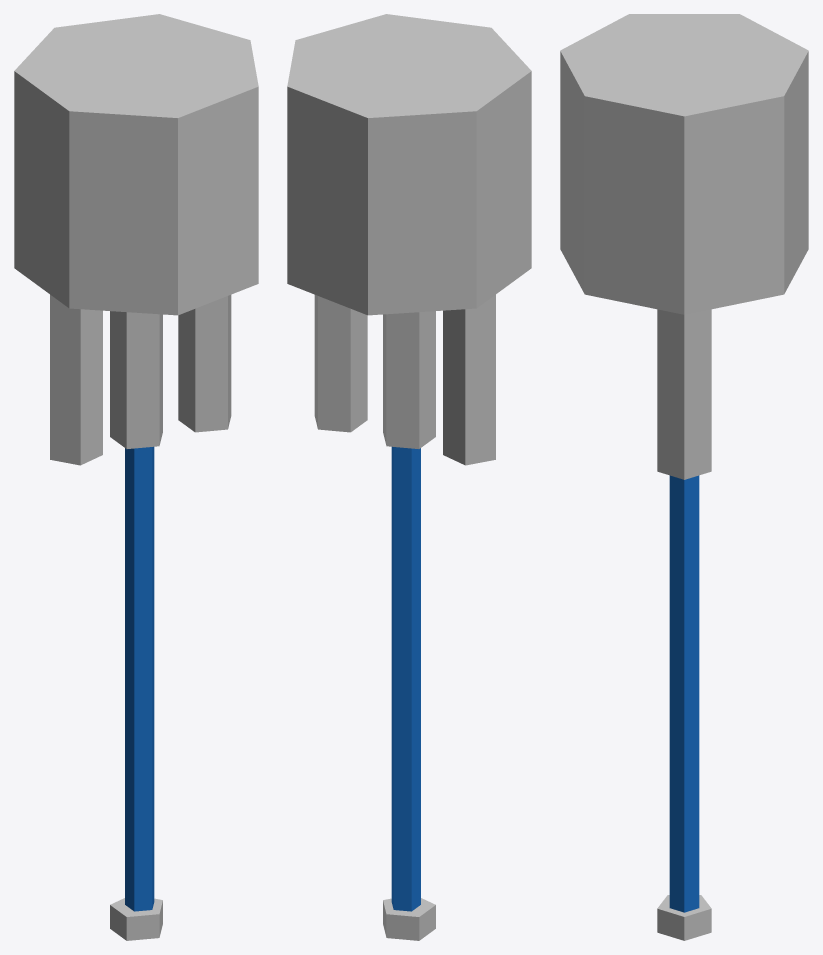
File: SM_overhead_lamp3.fbx
3 views of the same model, side by side, from view 1: azimuth 30°, elevation 25°; view 2: azimuth 150°, elevation 25°; view 3: azimuth 270°, elevation 25° (orthographic).
Visible parts, largest first — view 1: overhead_lamp3; view 2: overhead_lamp3; view 3: overhead_lamp3.
Part boxes in pixels (left/top/right/bottom): overhead_lamp3: left=14, top=14, right=258, bottom=940; overhead_lamp3: left=287, top=14, right=531, bottom=940; overhead_lamp3: left=560, top=14, right=808, bottom=940.
Size of the model in its own units: 28.51 by 113 by 29.25.
